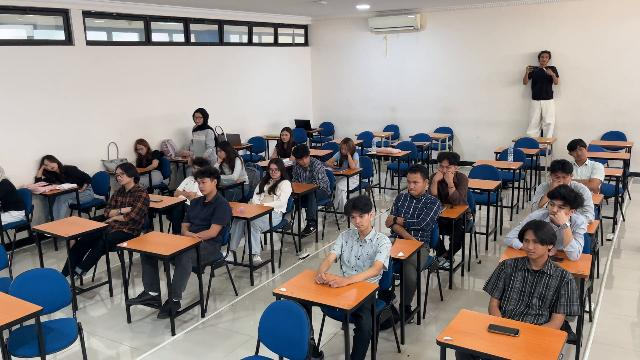bosan: (523, 234, 544, 257), (548, 200, 570, 221), (350, 212, 367, 230), (551, 172, 570, 186), (197, 176, 212, 193), (407, 177, 420, 195), (116, 168, 130, 184), (571, 146, 586, 160), (439, 162, 453, 175), (269, 164, 281, 178), (44, 159, 57, 170), (298, 156, 310, 167), (217, 147, 226, 159), (137, 145, 147, 155), (281, 131, 290, 142), (341, 145, 347, 155)
